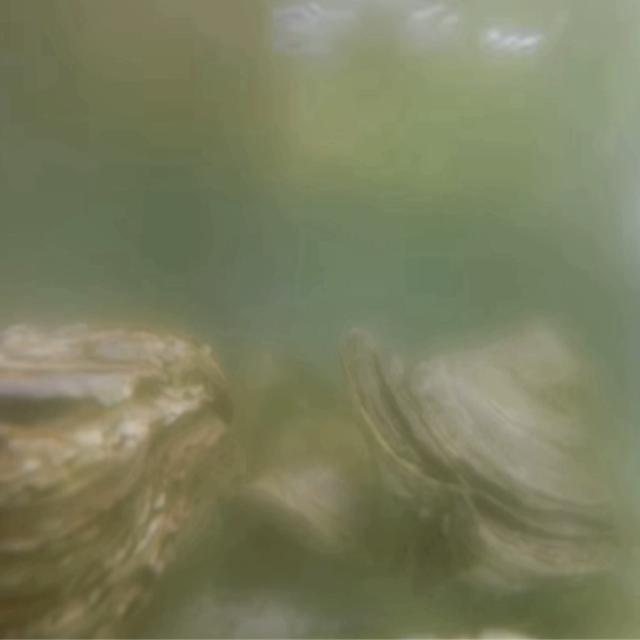Oyster-Closed: (338, 324, 637, 606), (1, 324, 247, 634)
Oyster-Indeterminate: (239, 417, 379, 562)
